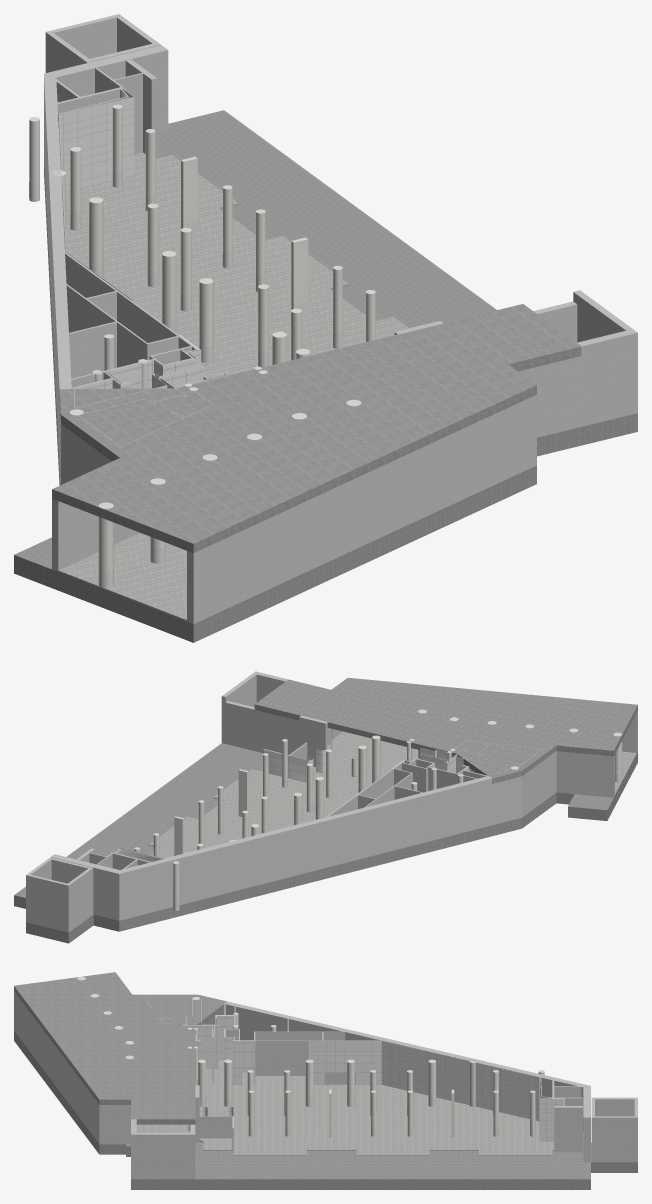
File: station-b2-concourse.glb
3 renders of one model, top to bottom at view 1: azimuth 30°, elevation 25°; view 2: azimuth 150°, elevation 25°; view 3: azimuth 270°, elevation 25°, orthographic. The views are drawn at different scales.
Parts seen in each view (by area): view 1: Node; view 2: Node; view 3: Node.
Part boxes in pixels (left/top/right/bottom): Node: left=14, top=14, right=637, bottom=642; Node: left=14, top=671, right=637, bottom=943; Node: left=14, top=972, right=637, bottom=1189.
Size of the model in its own units: 64.33 by 9.94 by 102.
6 materials, 4 textured.
